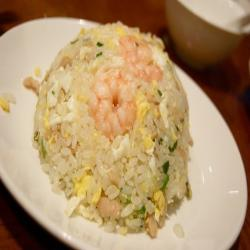rice: (23, 20, 207, 235)
